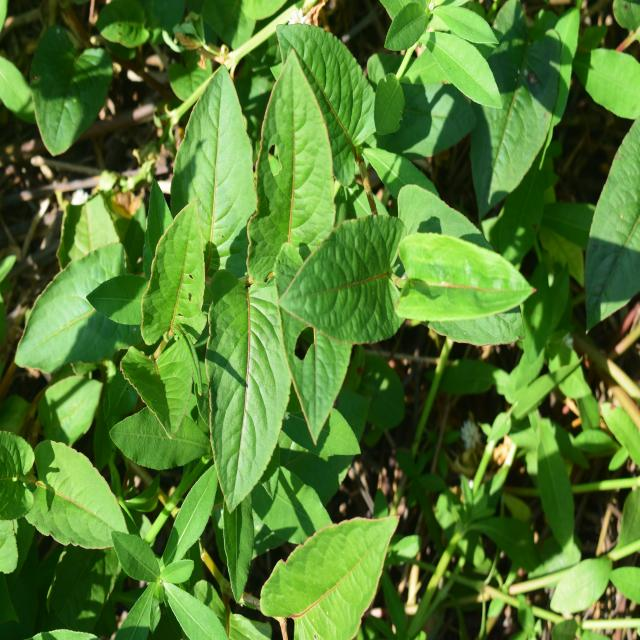Chinese_knotweed: (155, 101, 407, 437)
